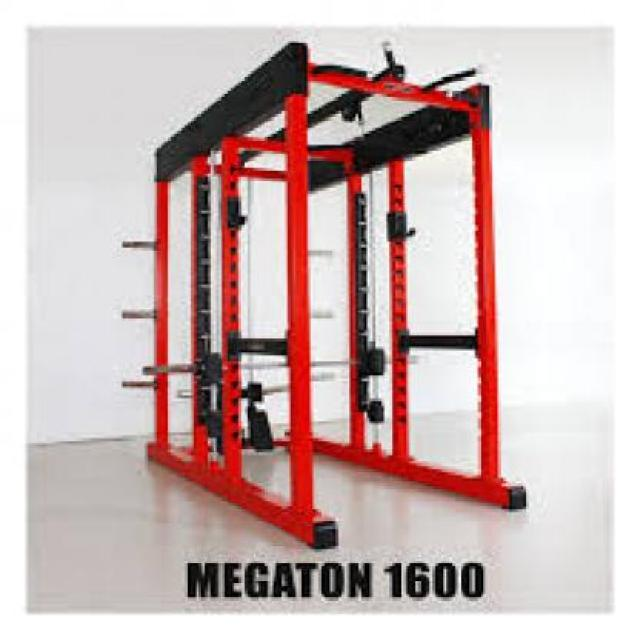smith machine: (125, 40, 529, 551)
